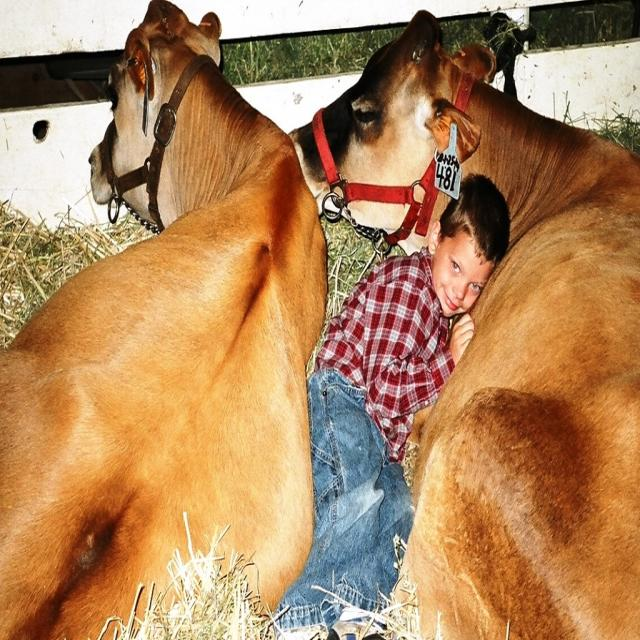Cattle: (288, 9, 640, 640), (0, 0, 328, 640)
